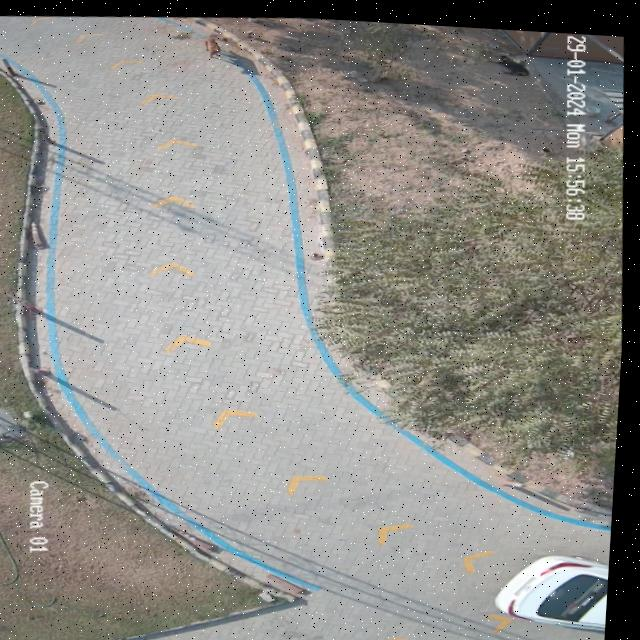car: (500, 549, 615, 626)
